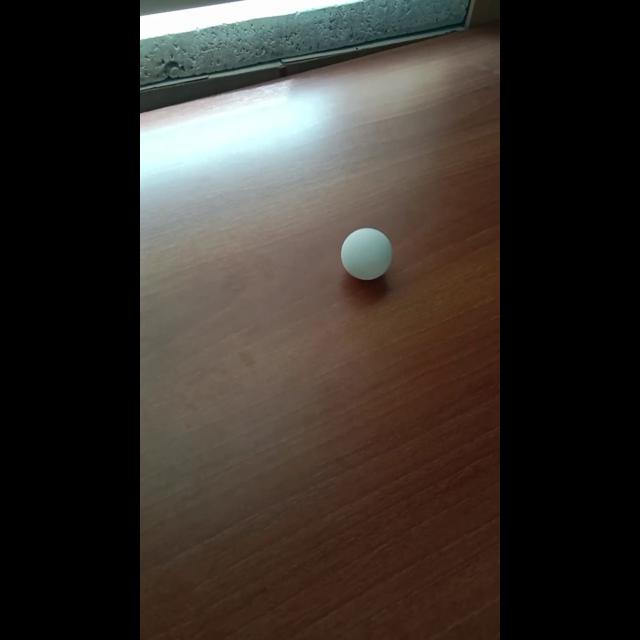white ball: (340, 227, 392, 281)
